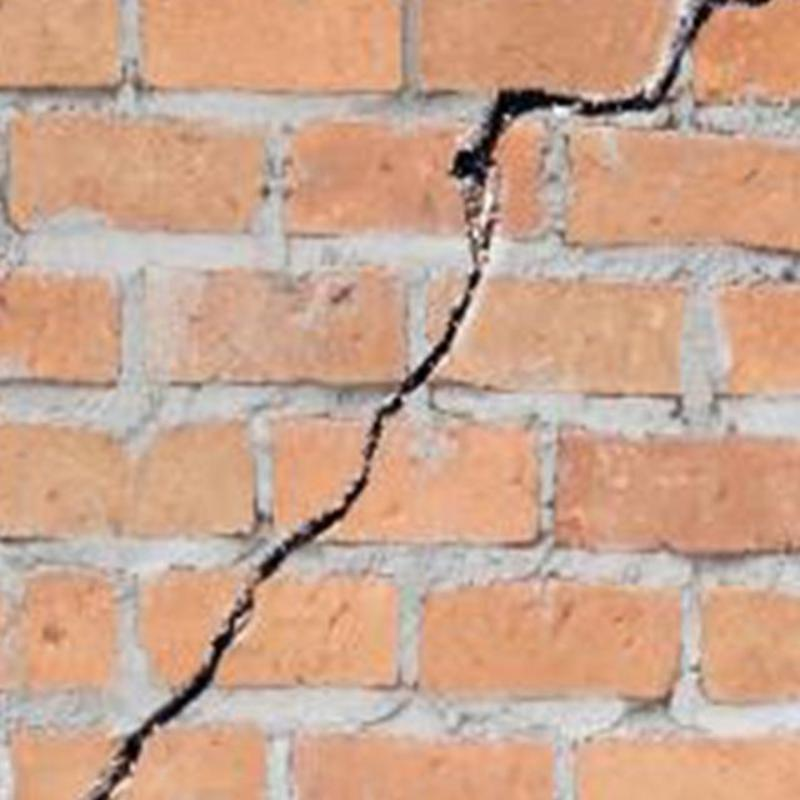crack: (83, 0, 766, 800)
